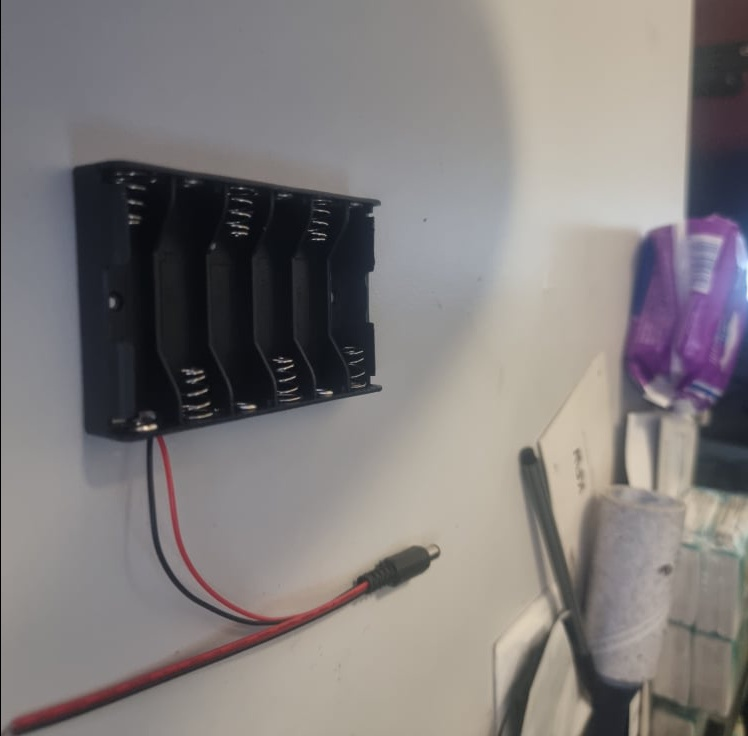BATTERY BOX: (73, 159, 383, 442)
